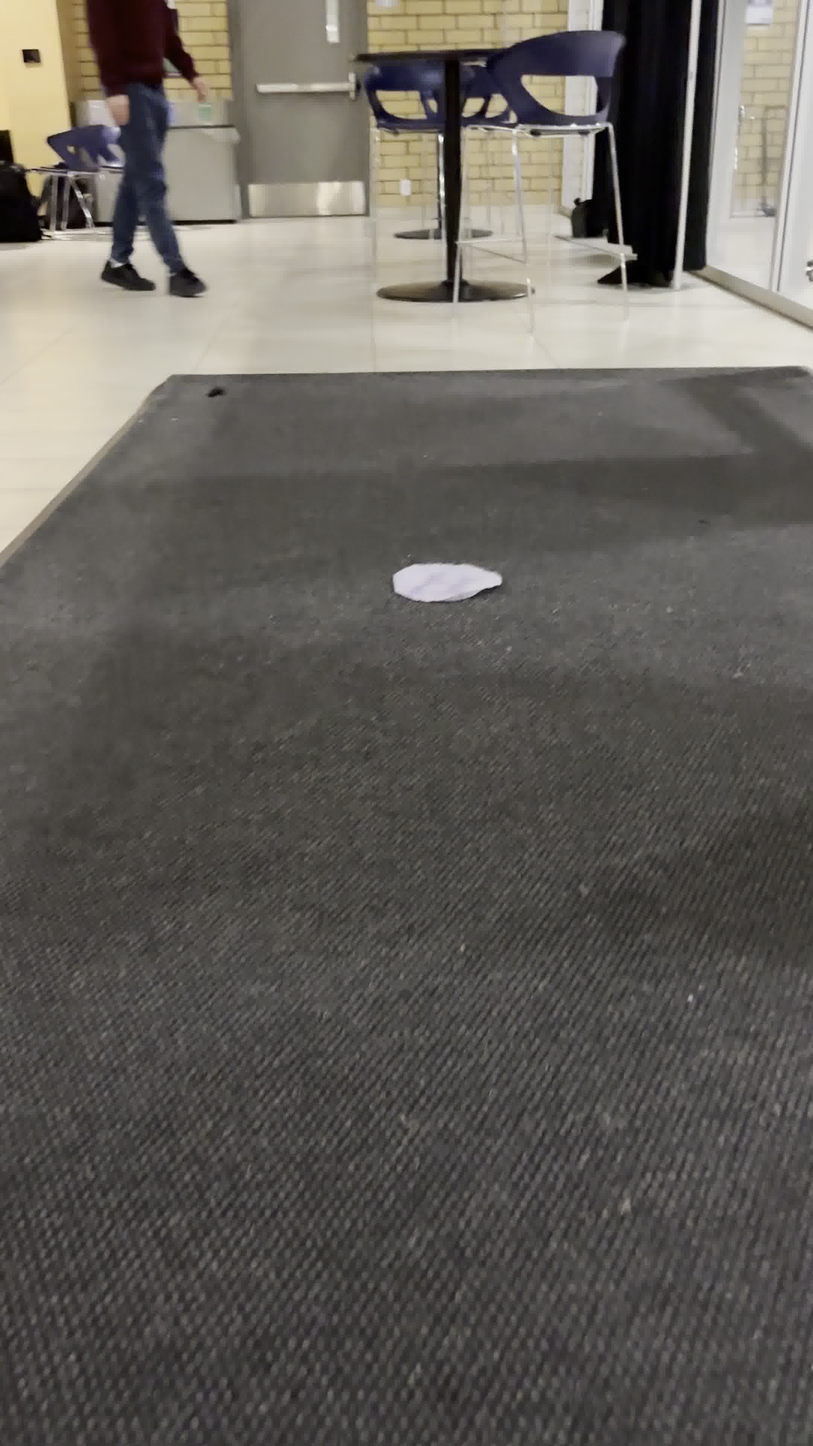Target: (385, 553, 509, 607)
